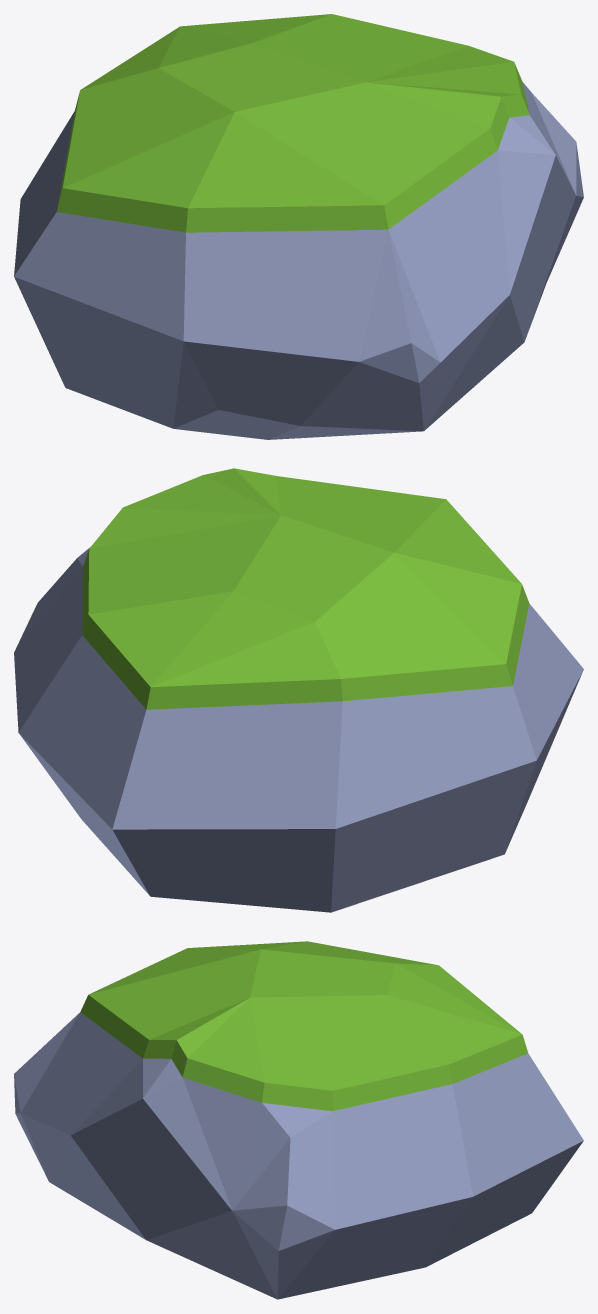
The model's file is Stone_10_1.fbx.
3 views of the same model, one above another, from view 1: azimuth 30°, elevation 25°; view 2: azimuth 150°, elevation 25°; view 3: azimuth 270°, elevation 25° (orthographic). The views are drawn at different scales.
Parts seen in each view (by area): view 1: Stone_10_1; view 2: Stone_10_1; view 3: Stone_10_1.
Part boxes in pixels (x1,y1,x2,y2): Stone_10_1: [14, 14, 583, 439]; Stone_10_1: [14, 468, 583, 912]; Stone_10_1: [14, 941, 583, 1299].
Bounding box in the file's own units: 1.45 × 0.7494 × 1.55.
